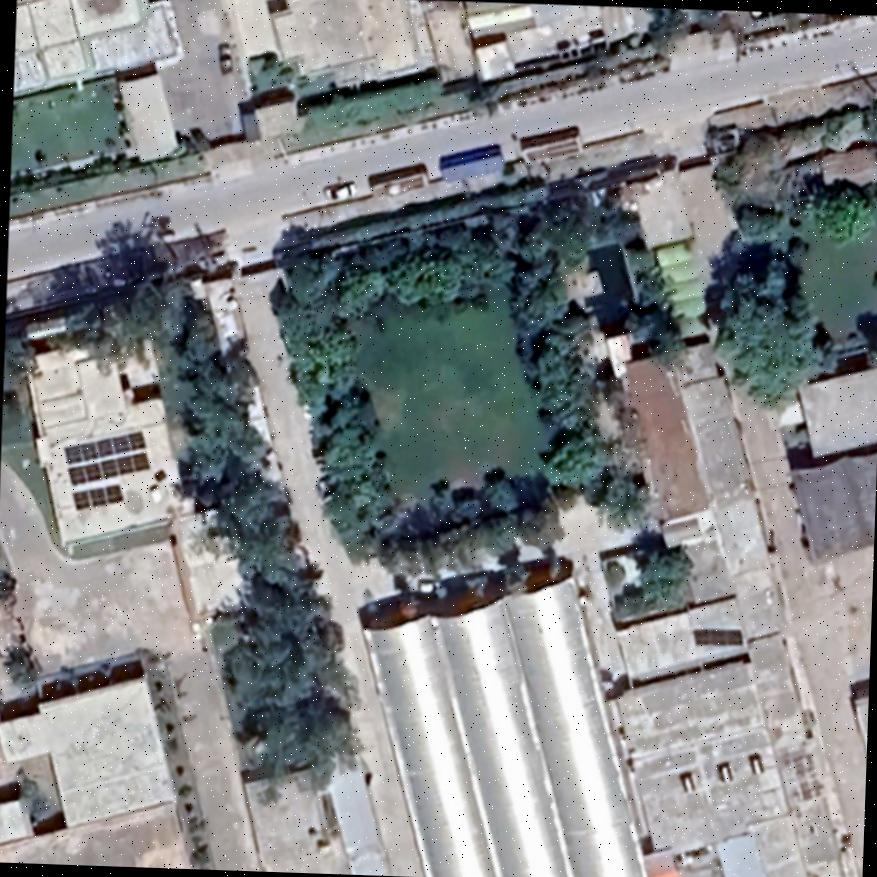Solarpanel: (62, 449, 150, 487), (62, 429, 146, 463), (69, 482, 124, 512), (693, 628, 742, 645)
